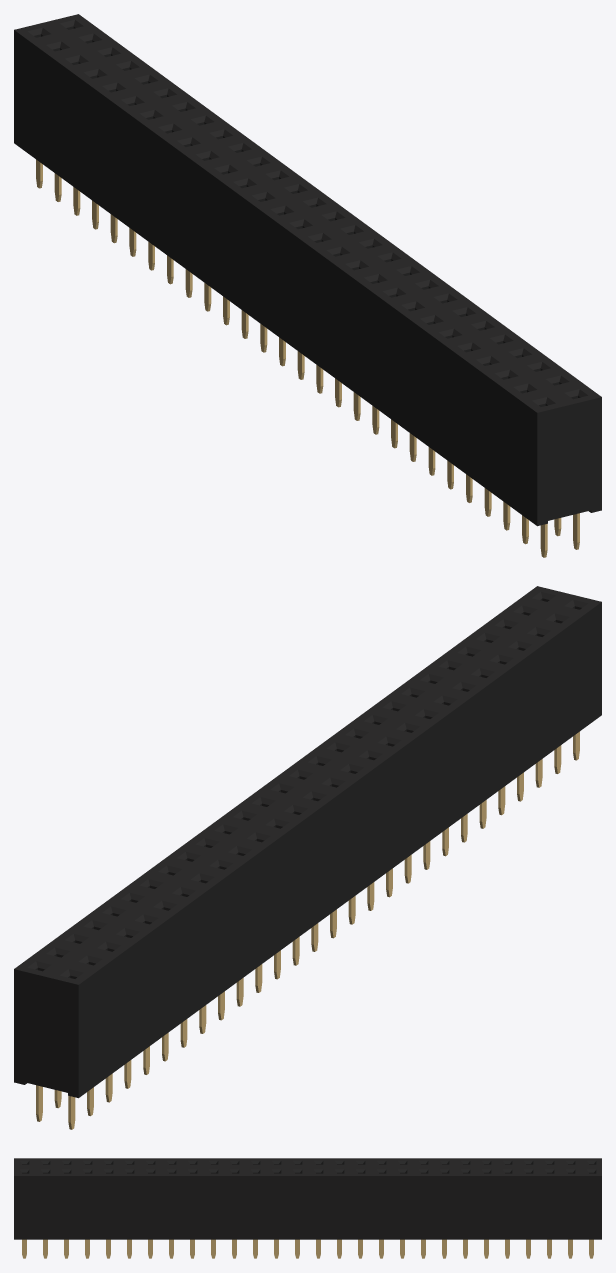
Rendered from kc-pinsocket_2x28_p2.54mm_vertical.glb.
3 views of the same model, one above another, from view 1: azimuth 30°, elevation 25°; view 2: azimuth 150°, elevation 25°; view 3: azimuth 270°, elevation 25° (orthographic). The views are drawn at different scales.
Visible parts, largest first — view 1: 0_0_0_0, 0.75_0.5_0.25_0.9; view 2: 0_0_0_0, 0.75_0.5_0.25_0.9; view 3: 0_0_0_0, 0.75_0.5_0.25_0.9.
Boxes of the visible parts, x1=… form: 0_0_0_0: x1=14, y1=14, x2=601, y2=526; 0.75_0.5_0.25_0.9: x1=36, y1=159, x2=579, y2=557; 0_0_0_0: x1=14, y1=586, x2=601, y2=1098; 0.75_0.5_0.25_0.9: x1=36, y1=731, x2=579, y2=1129; 0_0_0_0: x1=14, y1=1158, x2=601, y2=1239; 0.75_0.5_0.25_0.9: x1=22, y1=1239, x2=593, y2=1258.
Size of the model in its own units: 0.5079 by 1.16 by 7.11.
